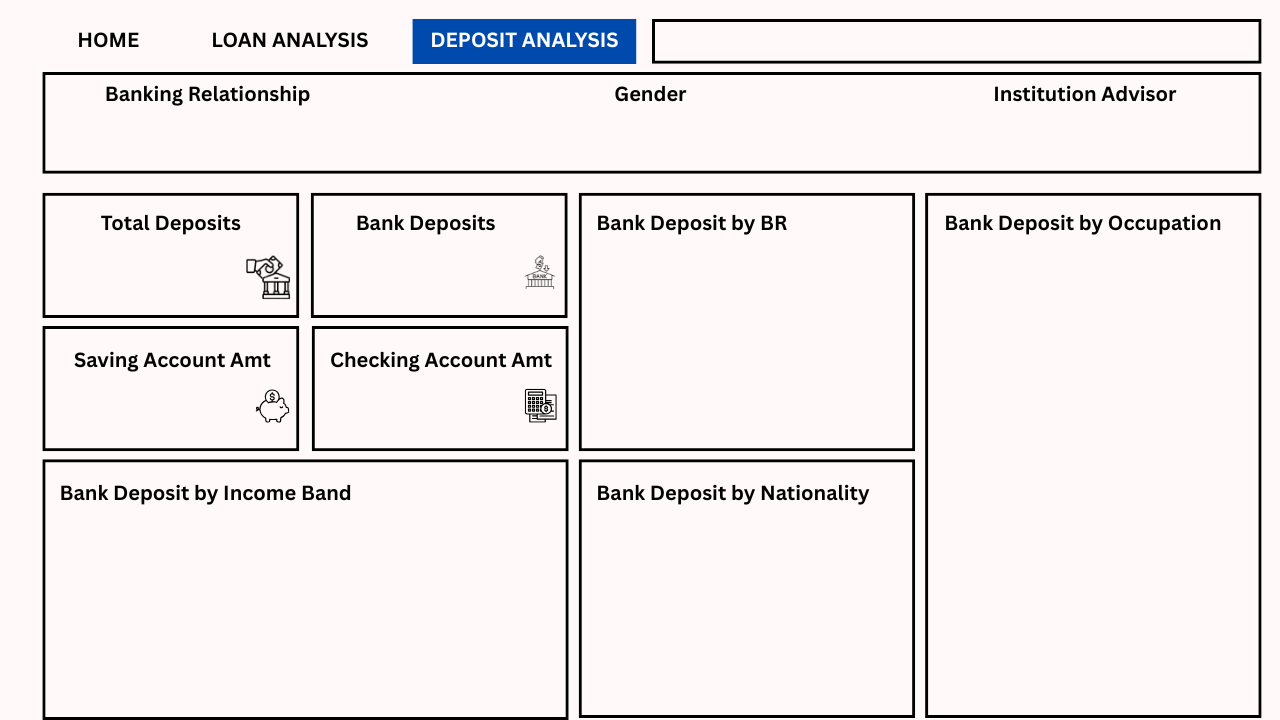

This screenshot's page, from the dashboard's own definition file:
{"tool":"powerbi","page":{"name":"DEPOSIT ANALYSIS","canvas":[1280,720],"ordinal":2},"visuals":[{"type":"slicer","fields":{"Values":["Banking_Clients.YEAR OF JOINNG"]},"box":[658.7,22.9,586.3,39.8],"z":0},{"type":"actionButton","box":[66.4,22.9,100.1,39.8],"z":1000},{"type":"card","fields":{"Values":["Banking_Clients.TOTAL DEPOSISTS"]},"box":[90.5,244.9,152,56.7],"z":4000},{"type":"card","fields":{"Values":["Sum(Banking_Clients.Bank Deposits)"]},"box":[351.1,244.9,152,56.7],"z":5000},{"type":"card","fields":{"Values":["Sum(Banking_Clients.Saving Accounts)"]},"box":[90.5,378.8,152,56.7],"z":6000},{"type":"card","fields":{"Values":["Sum(Banking_Clients.Checking Accounts)"]},"box":[351.1,378.8,152,56.7],"z":7000},{"type":"donutChart","fields":{"Y":["Sum(Banking_Clients.Bank Deposits)"],"Category":["Banking_Clients.Income Band"]},"box":[51.9,513.9,507.9,194.2],"z":8000},{"type":"clusteredColumnChart","fields":{"Category":["Banking_Clients.BRId"],"Y":["Sum(Banking_Clients.Bank Deposits)"]},"box":[585.1,235.3,318.5,208.7],"z":9000},{"type":"clusteredColumnChart","fields":{"Category":["Banking_Clients.Nationality"],"Y":["Sum(Banking_Clients.Bank Deposits)"]},"box":[585.1,499.5,318.5,208.7],"z":10000},{"type":"pieChart","fields":{"Category":["Banking_Clients.Occupation"],"Y":["Sum(Banking_Clients.Bank Deposits)"]},"box":[941,244.9,312.5,463.3],"z":11000},{"type":"slicer","fields":{"Values":["Banking_Clients.BRId"]},"box":[51.9,118.2,507.9,47.1],"z":12000},{"type":"slicer","fields":{"Values":["Banking_Clients.GenderId"]},"box":[539.3,118.2,289.5,47.1],"z":13000},{"type":"slicer","fields":{"Values":["Banking_Clients.IAId"]},"box":[828.8,118.2,416.2,47.1],"z":14000},{"type":"actionButton","box":[202.7,22.9,172.5,39.8],"z":15000}]}

Visuals, with their boxes in screenshot pixels (x1, y1, x2, y2), scaled from the page's 1280x720 canvas onto the 1280x720 screenshot:
slicer - Banking_Clients.YEAR OF JOINNG: Rect(659, 23, 1245, 63)
actionButton: Rect(66, 23, 166, 63)
card - Banking_Clients.TOTAL DEPOSISTS: Rect(90, 245, 242, 302)
card - Sum(Banking_Clients.Bank Deposits): Rect(351, 245, 503, 302)
card - Sum(Banking_Clients.Saving Accounts): Rect(90, 379, 242, 436)
card - Sum(Banking_Clients.Checking Accounts): Rect(351, 379, 503, 436)
donutChart - Sum(Banking_Clients.Bank Deposits) x Banking_Clients.Income Band: Rect(52, 514, 560, 708)
clusteredColumnChart - Banking_Clients.BRId x Sum(Banking_Clients.Bank Deposits): Rect(585, 235, 904, 444)
clusteredColumnChart - Banking_Clients.Nationality x Sum(Banking_Clients.Bank Deposits): Rect(585, 500, 904, 708)
pieChart - Banking_Clients.Occupation x Sum(Banking_Clients.Bank Deposits): Rect(941, 245, 1254, 708)
slicer - Banking_Clients.BRId: Rect(52, 118, 560, 165)
slicer - Banking_Clients.GenderId: Rect(539, 118, 829, 165)
slicer - Banking_Clients.IAId: Rect(829, 118, 1245, 165)
actionButton: Rect(203, 23, 375, 63)
